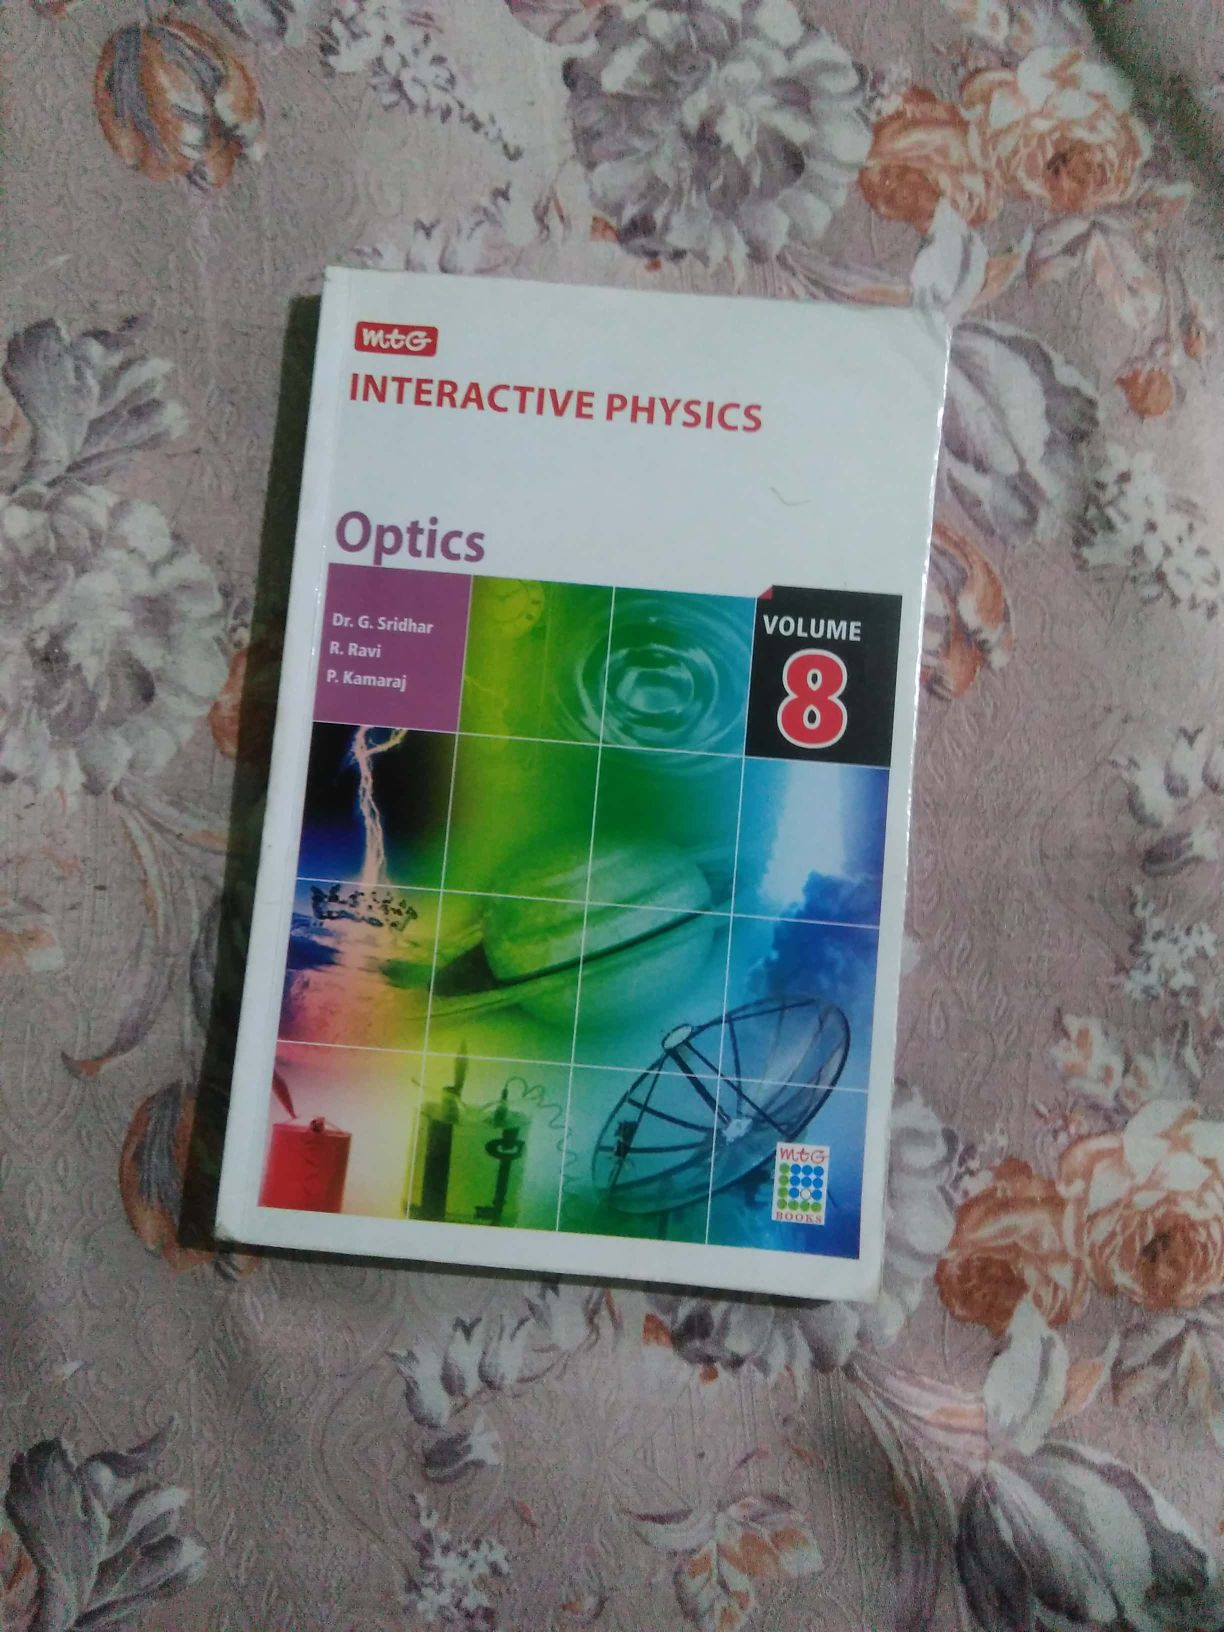optics: (181, 261, 953, 1315)
